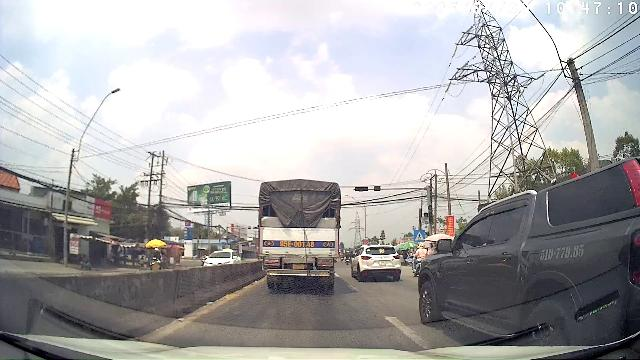423a-duong-nguoi-di-bo-sang-ngang-1: (414, 229, 425, 241)
